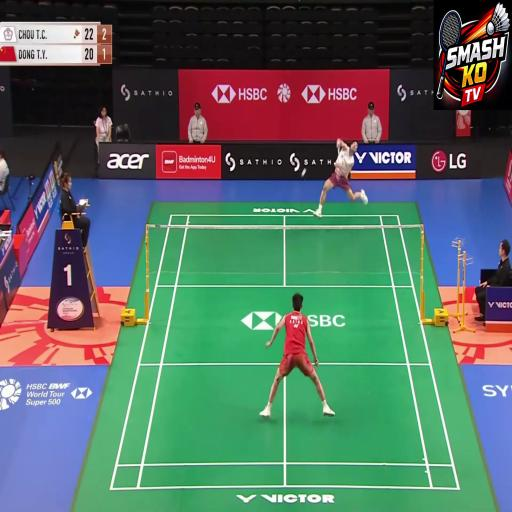player: (270, 245, 340, 443), (323, 118, 368, 228)
